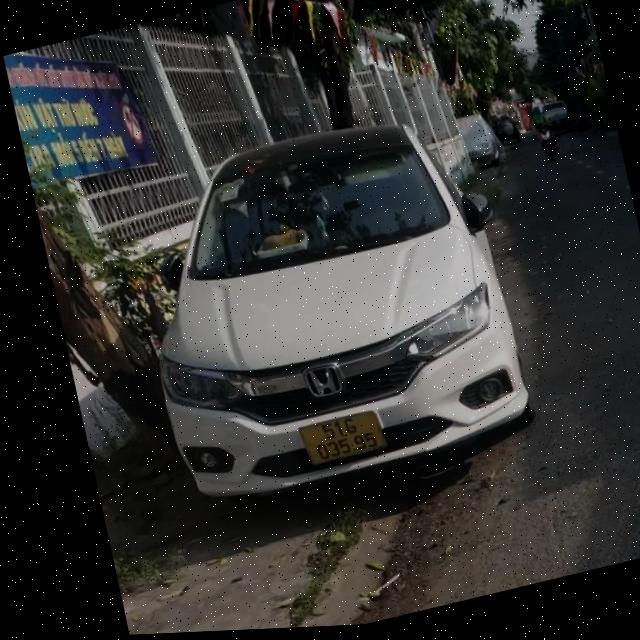car: (113, 84, 556, 528)
plate: (283, 396, 397, 475)
